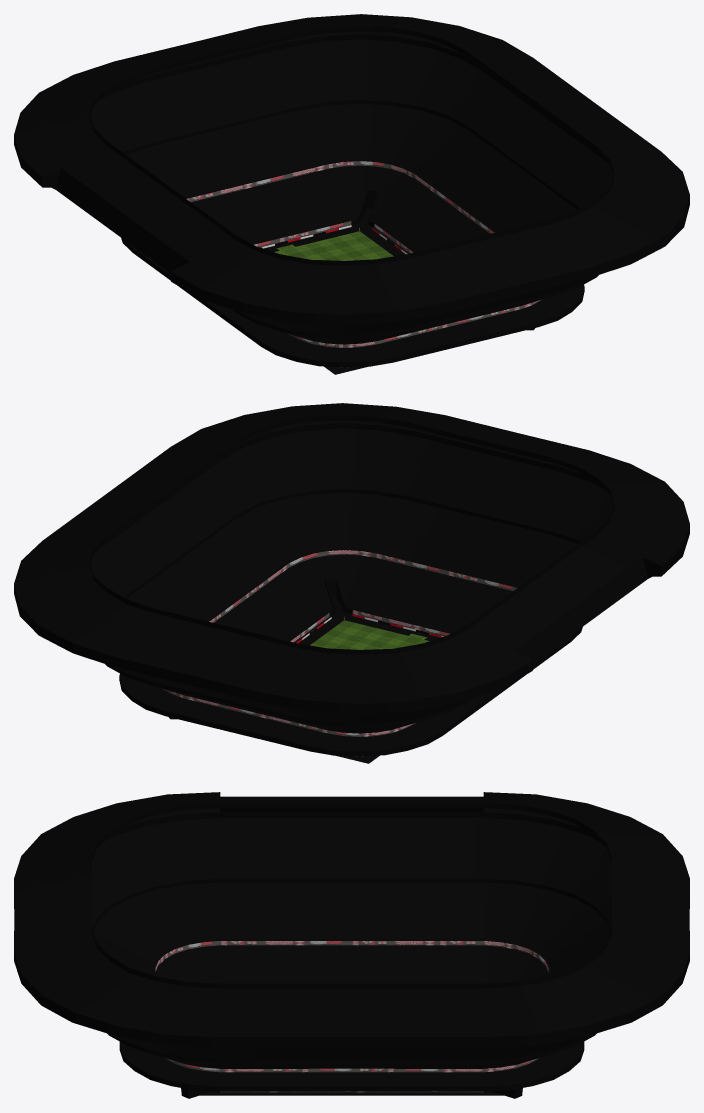
Rendered from st_061_stadium.fbx.
The picture shows the model from 3 angles, top to bottom: view 1: azimuth 30°, elevation 25°; view 2: azimuth 150°, elevation 25°; view 3: azimuth 270°, elevation 25°; orthographic projection. The views are drawn at different scales.
Parts seen in each view (by area): view 1: st_061_Stadium; view 2: st_061_Stadium; view 3: st_061_Stadium.
Part boxes in pixels (x1,y1,x2,y2): st_061_Stadium: (14,14,689,374); st_061_Stadium: (14,403,689,763); st_061_Stadium: (14,792,689,1098).
Bounding box in the file's own units: 231 × 68.43 × 269.
